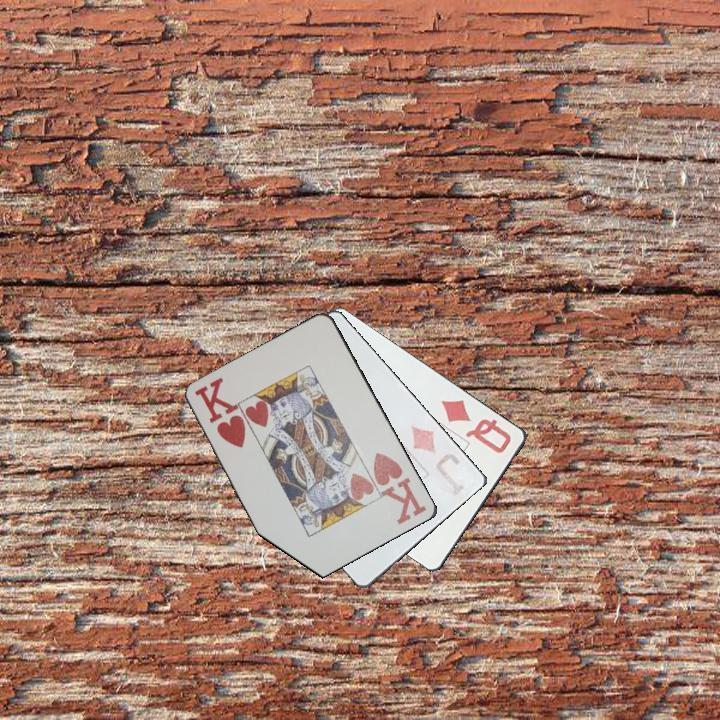Jd: (408, 422, 472, 499)
Kh: (369, 449, 430, 527), (191, 375, 249, 451)
Qd: (438, 396, 515, 456)
